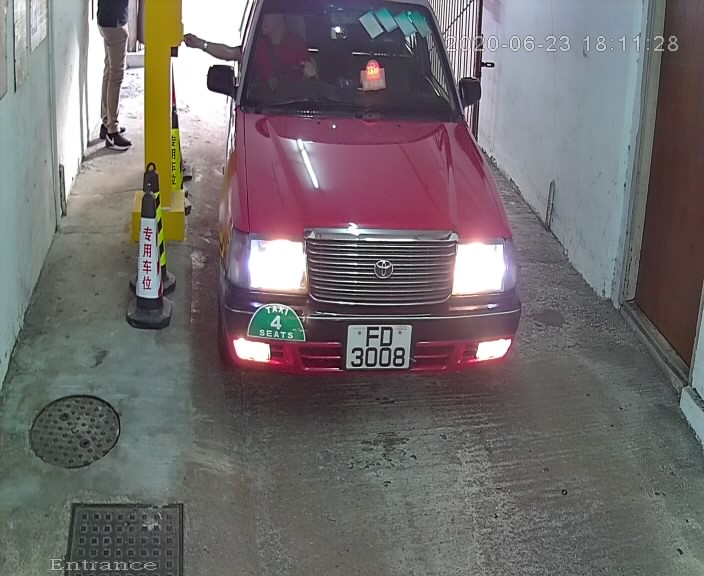taxi: (195, 2, 536, 391)
taxi_mark: (243, 298, 309, 352)
